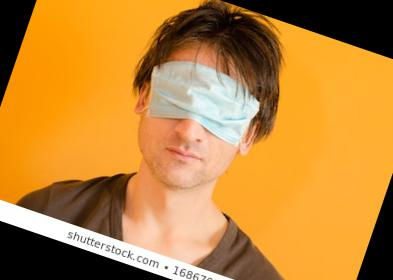mask_weared_incorrect: (122, 52, 266, 207)
